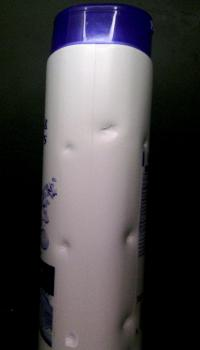dent_unacceptable: (44, 232, 83, 259), (88, 122, 132, 145), (108, 306, 136, 336), (57, 328, 92, 348), (52, 140, 85, 160), (117, 220, 138, 248), (136, 132, 150, 157), (138, 133, 150, 158)
